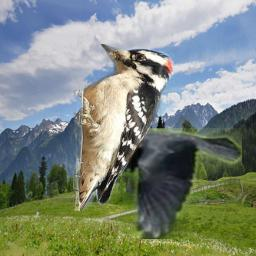Crow: (102, 128, 242, 239)
Woodpecker: (73, 44, 175, 211)
